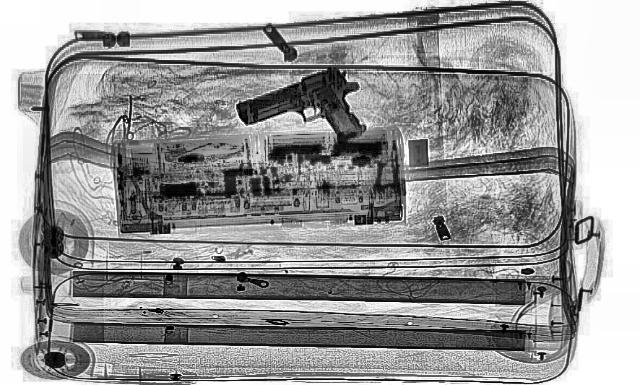Gun: (223, 62, 405, 160)
